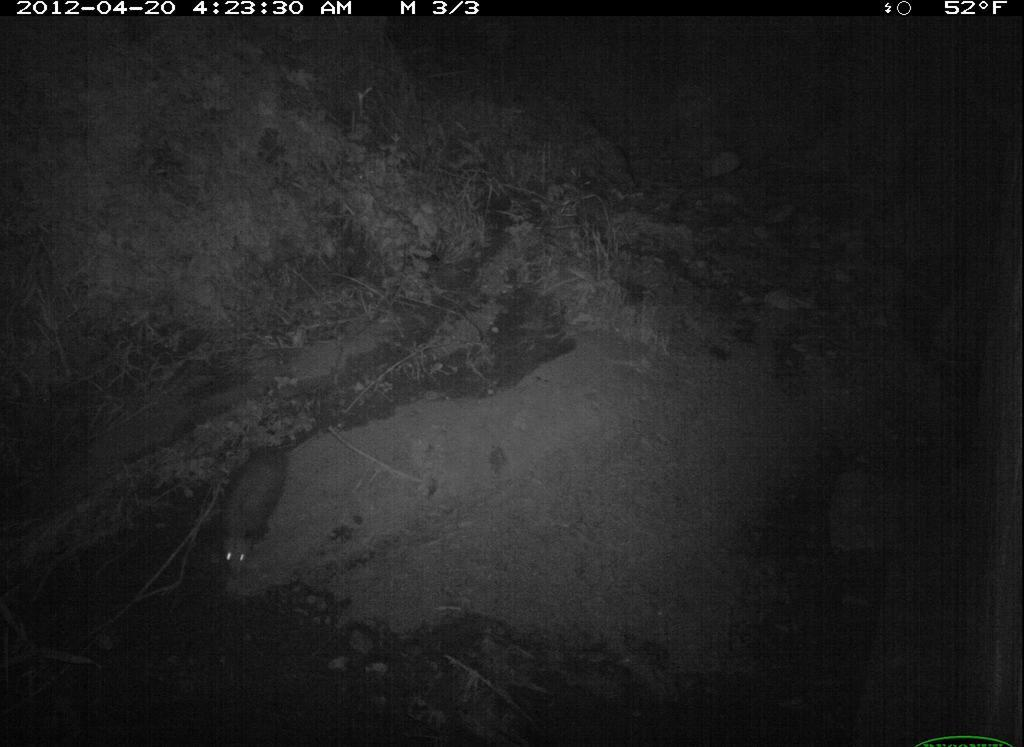opossum: (218, 431, 318, 587)
